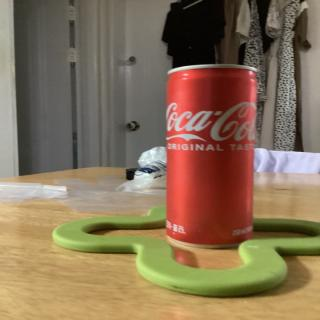cocacola: (159, 62, 263, 249)
